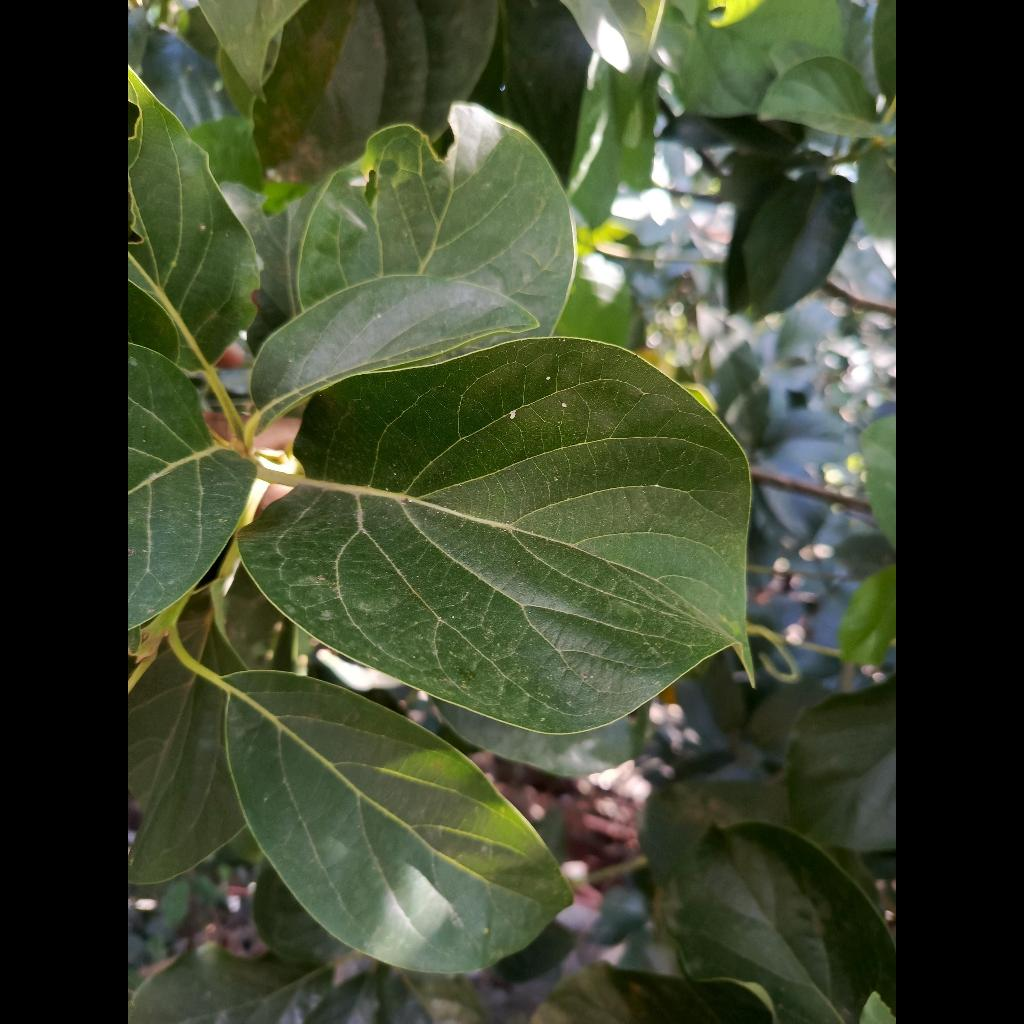hoja_sana: (240, 338, 750, 732), (224, 671, 569, 972)
